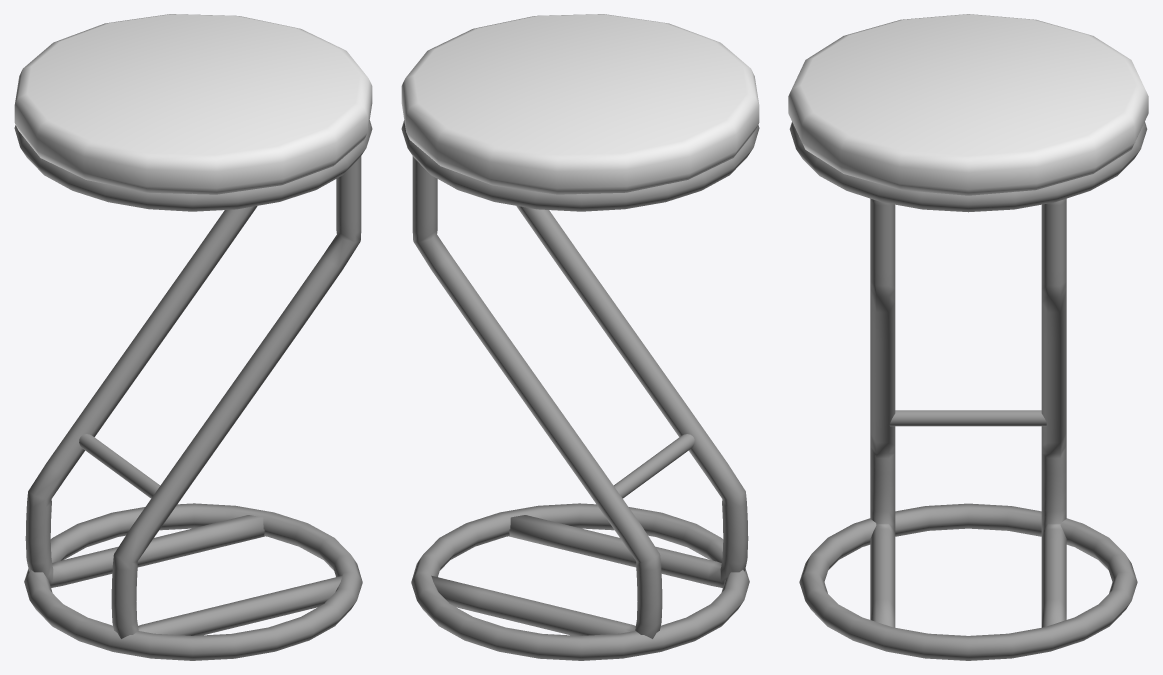
File: Bar Chair07.fbx
3 renders of one model, left to right at view 1: azimuth 30°, elevation 25°; view 2: azimuth 150°, elevation 25°; view 3: azimuth 270°, elevation 25°, orthographic.
Visible parts, largest first — view 1: Bar Chair07; view 2: Bar Chair07; view 3: Bar Chair07.
Part boxes in pixels (x1,y1,x2,y2): Bar Chair07: [14, 14, 372, 660]; Bar Chair07: [401, 14, 759, 660]; Bar Chair07: [788, 14, 1148, 660].
Size of the model in its own units: 0.2651 by 0.2651 by 0.4117.
